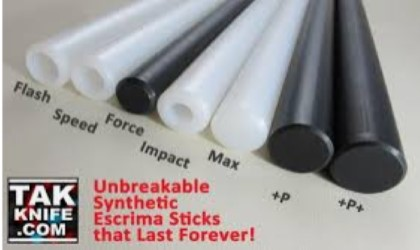baston_e: (333, 6, 384, 50), (300, 2, 334, 50)
baston_v: (330, 57, 419, 221), (266, 59, 335, 208), (209, 64, 288, 167), (108, 53, 199, 121)
